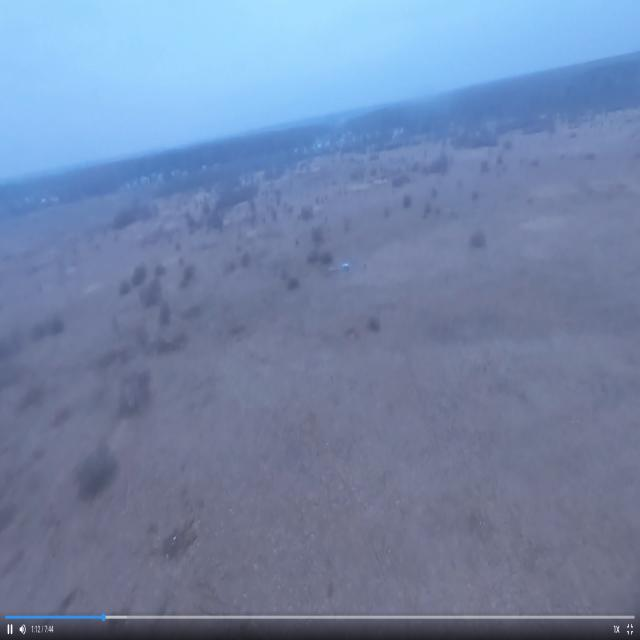planedrone: (332, 254, 368, 273)
